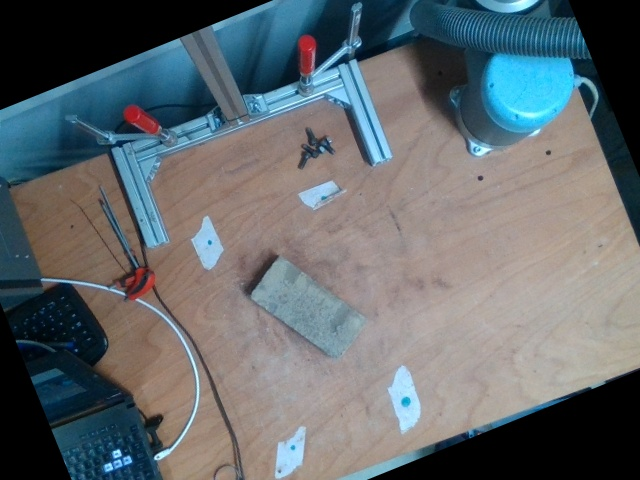brick: (250, 259, 363, 359)
